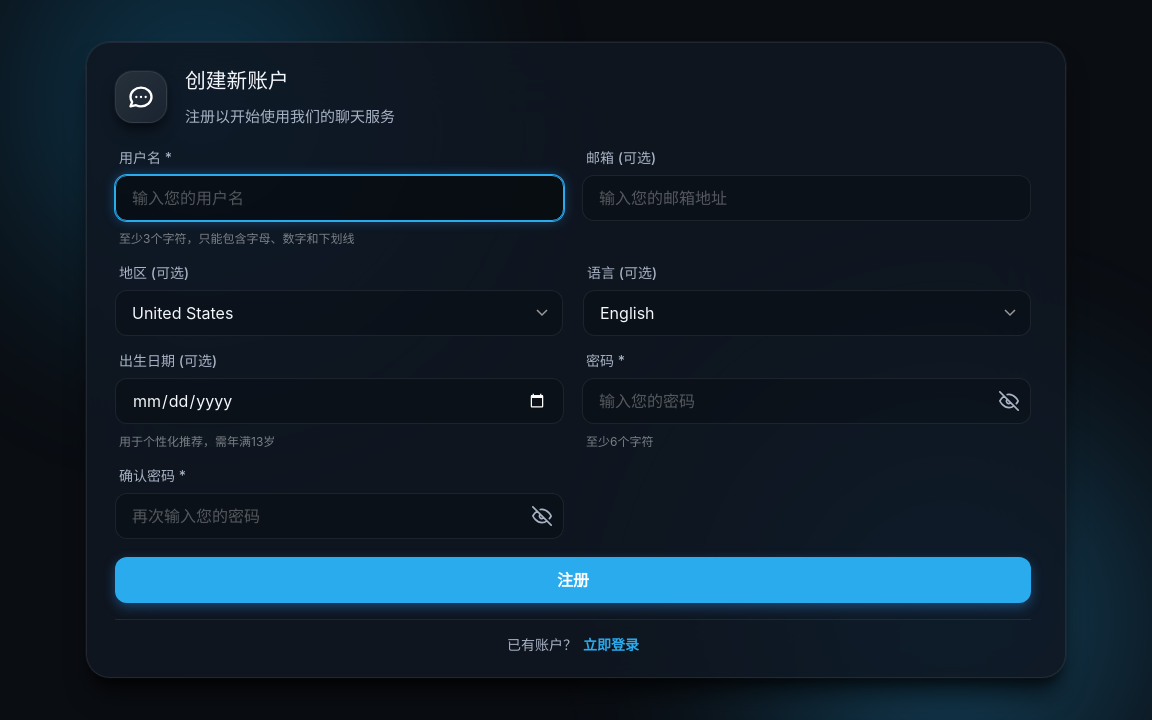
Test: RegisterPage accessibility › announces validation errors through alert semantics
Click the button "注册" at (573, 580), box [115,557,1031,603]
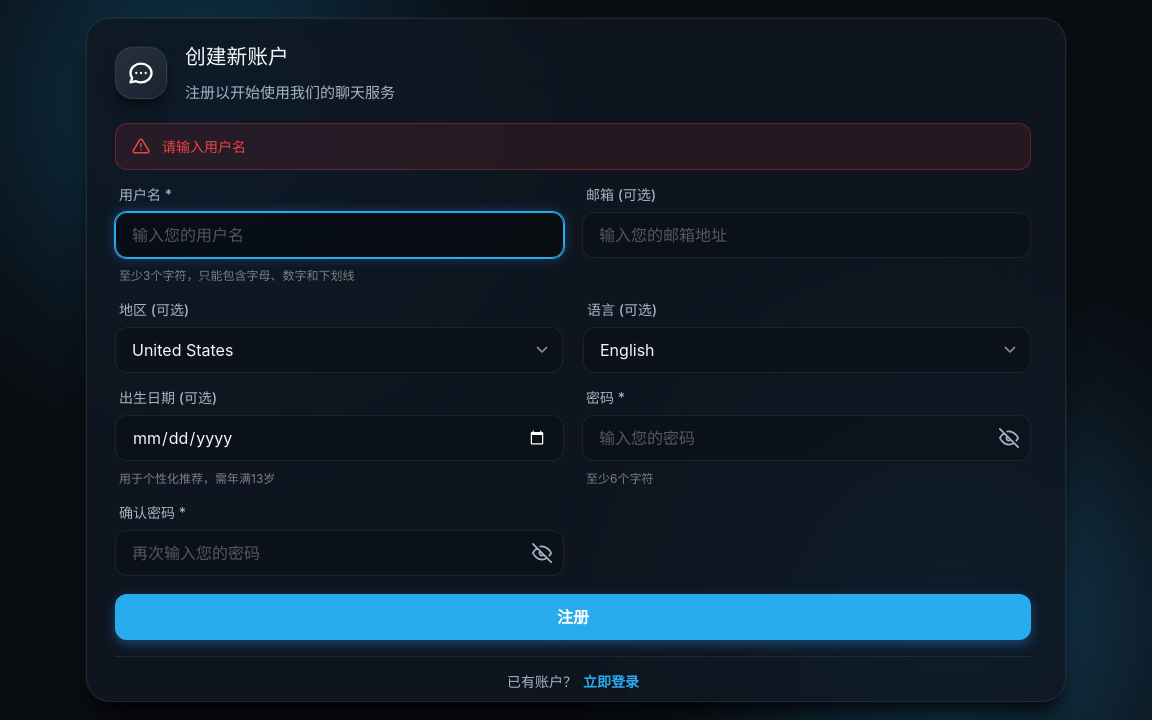
expect the message reads "请输入用户名": met, box [162,138,246,155]
